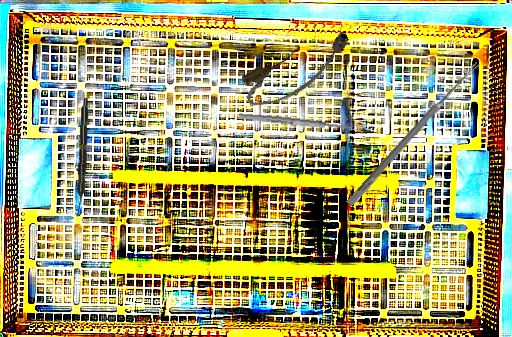Cannula: (236, 24, 361, 116)
Handpiece: (75, 97, 90, 211)
Surgical Spoon: (346, 59, 481, 208), (238, 112, 362, 133)
